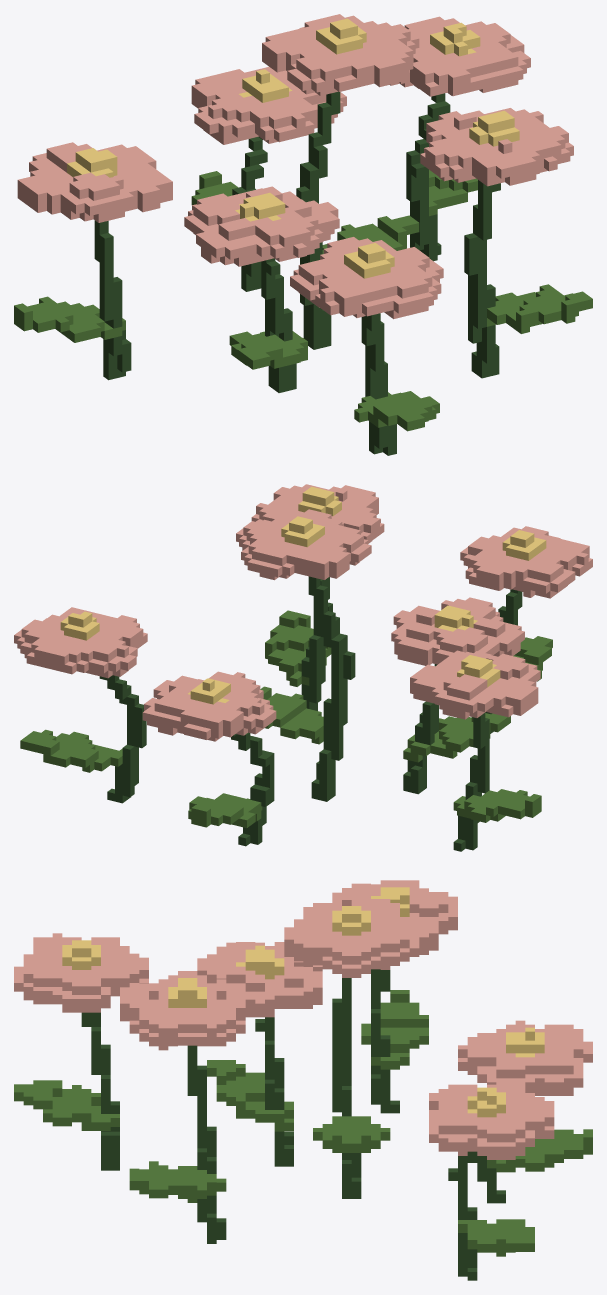
The model's file is flower_cluster_v2_species1_near.glb.
3 views of the same model, one above another, from view 1: azimuth 30°, elevation 25°; view 2: azimuth 150°, elevation 25°; view 3: azimuth 270°, elevation 25° (orthographic). The views are drawn at different scales.
Parts seen in each view (by area): view 1: flower_cluster_v2_species1_near; view 2: flower_cluster_v2_species1_near; view 3: flower_cluster_v2_species1_near.
Part boxes in pixels (x1,y1,x2,y2): flower_cluster_v2_species1_near: (14,14,592,455); flower_cluster_v2_species1_near: (14,484,592,851); flower_cluster_v2_species1_near: (14,880,592,1280).
Bounding box in the file's own units: 1.94 × 1.06 × 1.88.
Materials: 1 (1 with a texture image).
